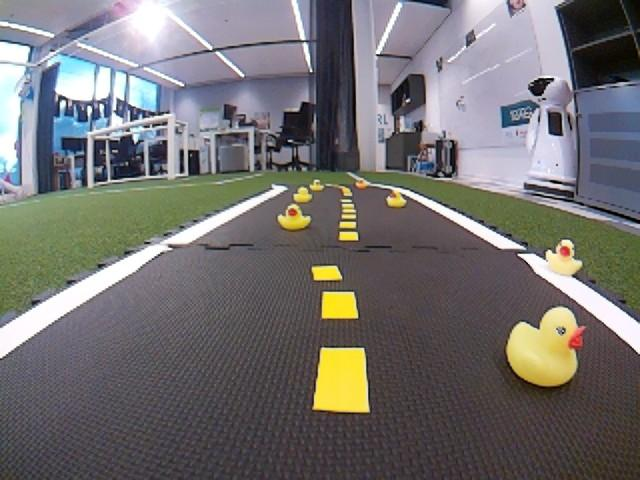Duckies: (505, 306, 587, 388), (546, 237, 584, 275), (277, 205, 311, 232), (384, 191, 407, 208), (293, 185, 313, 203), (309, 179, 324, 191), (355, 179, 367, 189)
